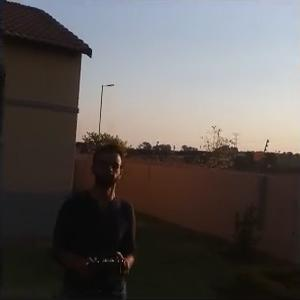follow: (46, 138, 140, 298)
